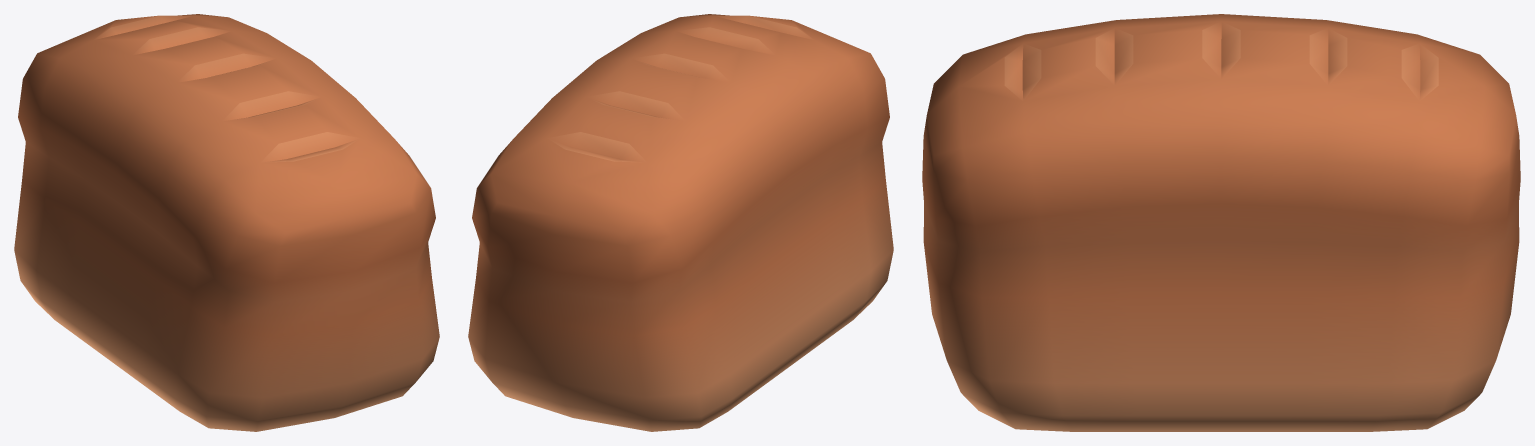
File: bread.obj
3 views of the same model, side by side, from view 1: azimuth 30°, elevation 25°; view 2: azimuth 150°, elevation 25°; view 3: azimuth 270°, elevation 25° (orthographic). The views are drawn at different scales.
Parts seen in each view (by area): view 1: bread; view 2: bread; view 3: bread.
Boxes of the visible parts, <box> form: bread: <box>14,14,439,431</box>; bread: <box>468,14,893,431</box>; bread: <box>922,14,1520,431</box>.
Size of the model in its own units: 0.4612 by 0.5155 by 0.8404.
Materials: 1 (1 with a texture image).
